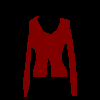maglia: (22, 16, 77, 96)
